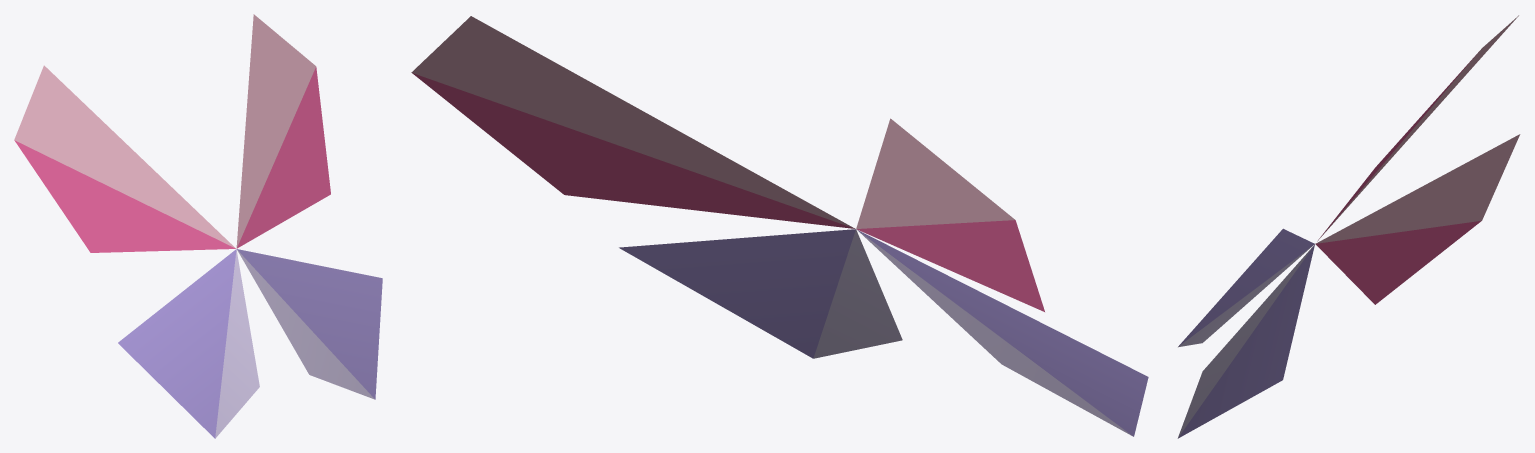
The model's file is butterfly.glb.
3 renders of one model, left to right at view 1: azimuth 30°, elevation 25°; view 2: azimuth 150°, elevation 25°; view 3: azimuth 270°, elevation 25°, orthographic. The views are drawn at different scales.
Parts seen in each view (by area): view 1: root_mesh; view 2: root_mesh; view 3: root_mesh.
Boxes of the visible parts, left/top/right/bottom form: root_mesh: left=14, top=14, right=382, bottom=438; root_mesh: left=411, top=16, right=1148, bottom=436; root_mesh: left=1177, top=15, right=1520, bottom=438.
Bounding box in the file's own units: 0.2 × 0.1724 × 0.1679.
